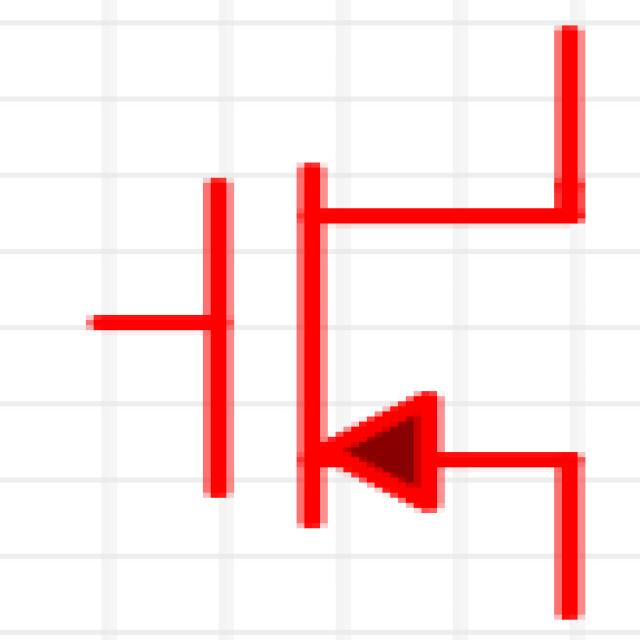pmos: (15, 10, 640, 604)
